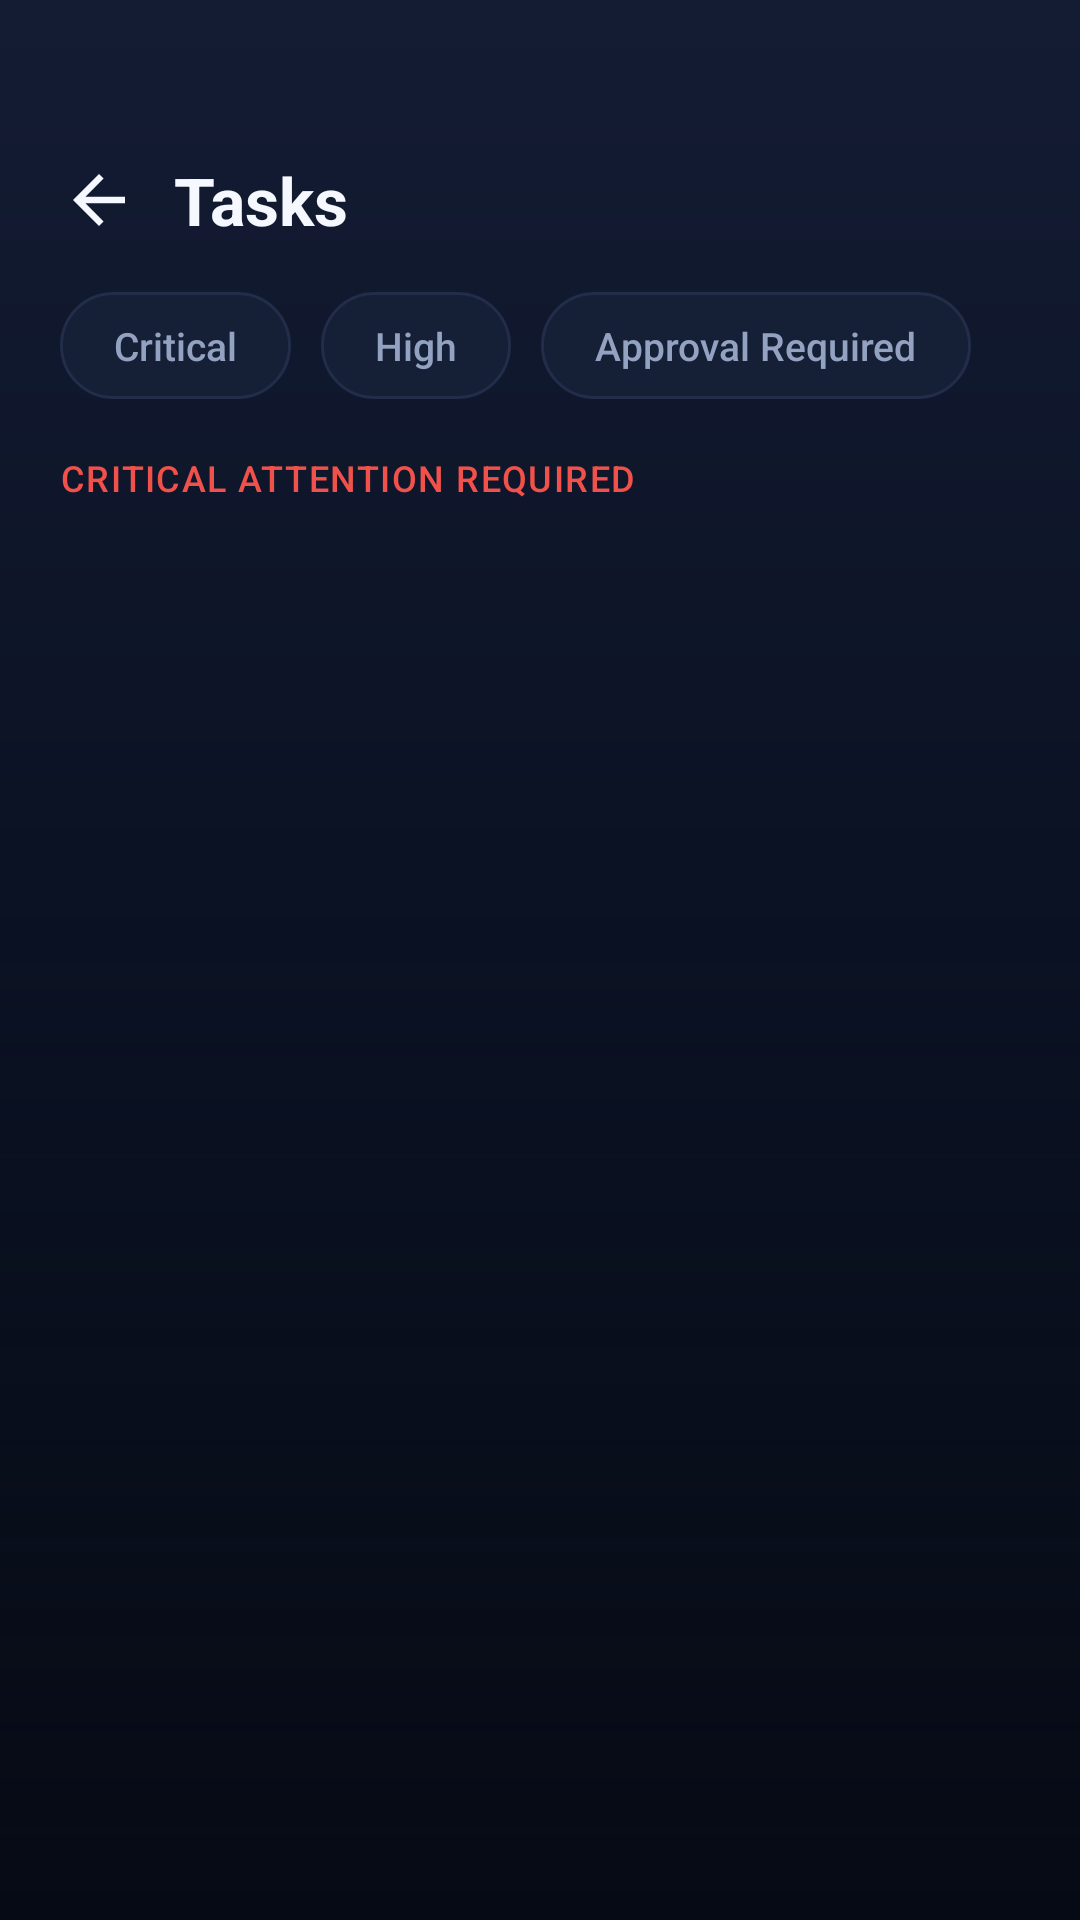

Named icons in this screenshot (1080 × 1920) and their centers, (x=x, y=y):
arrow back: (x=99, y=200)
